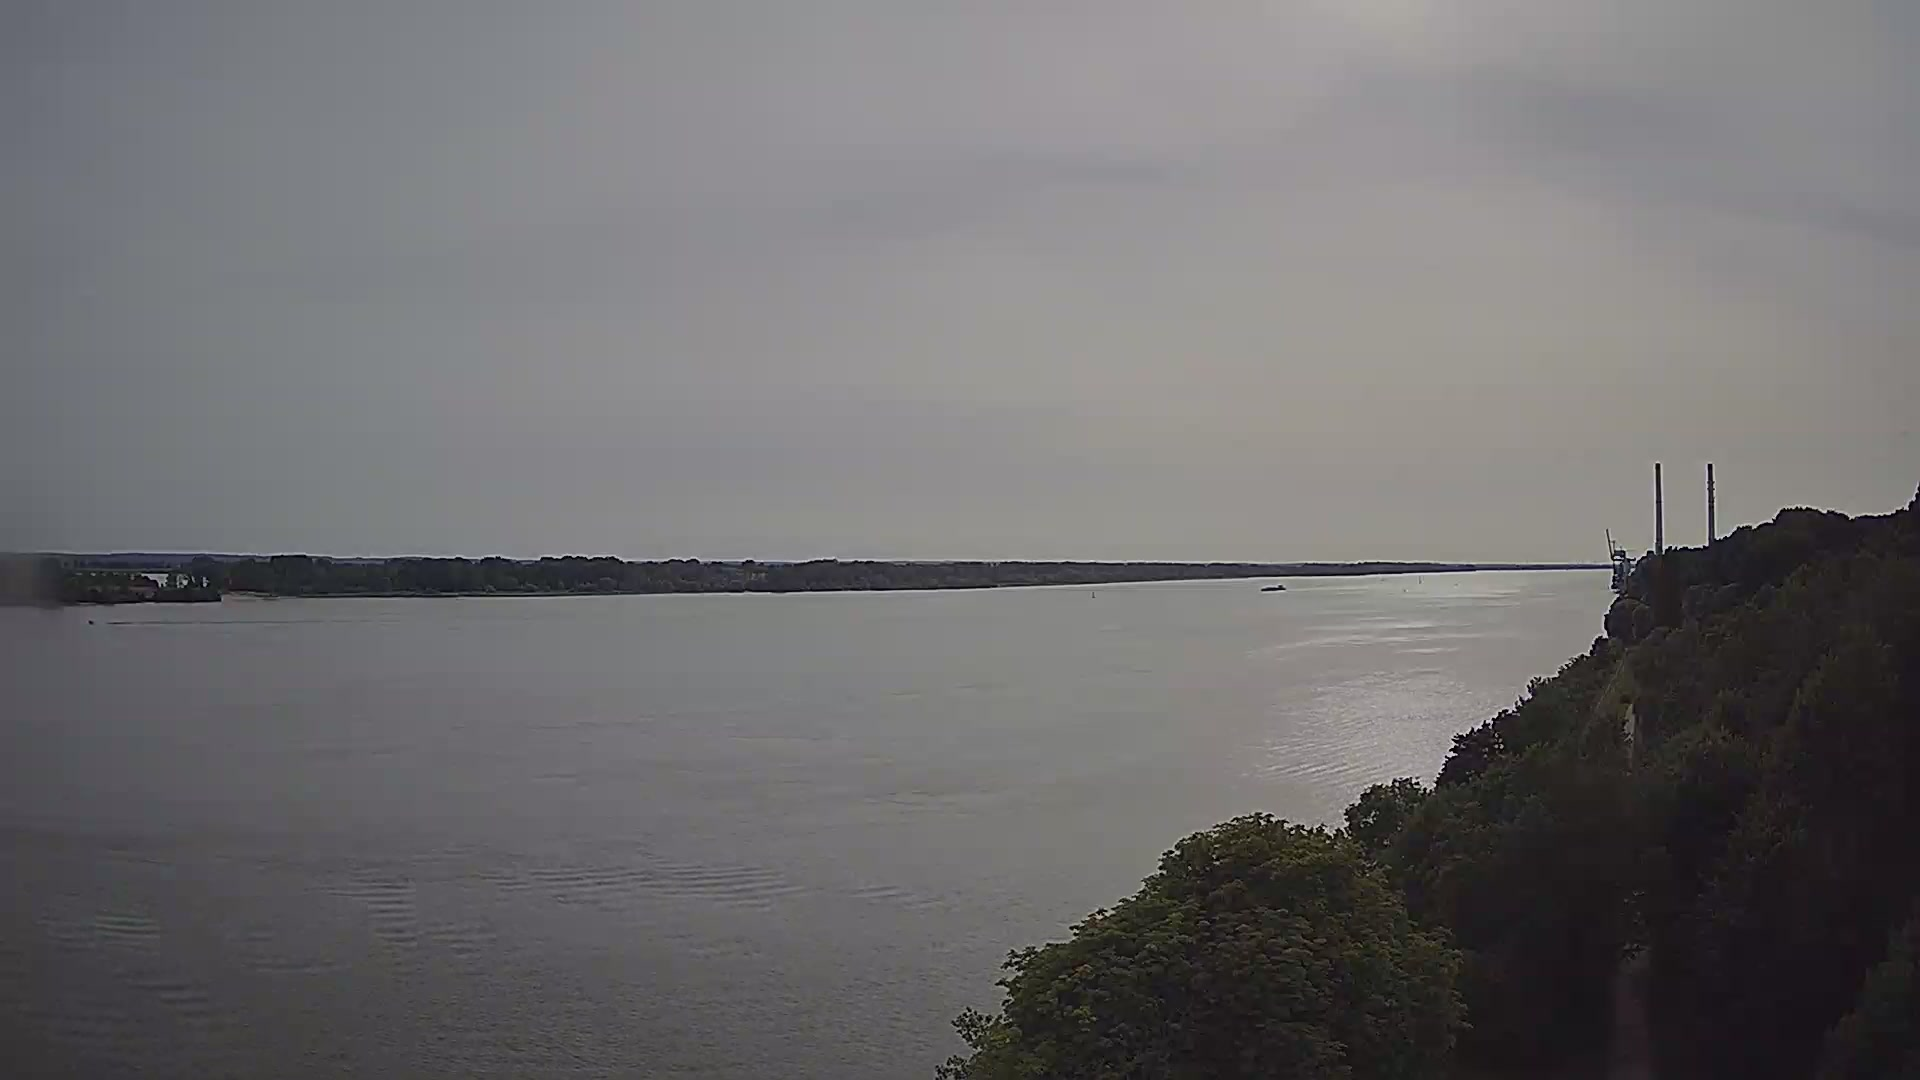sea: (1259, 583, 1284, 592), (1418, 575, 1424, 584), (87, 618, 94, 625)
